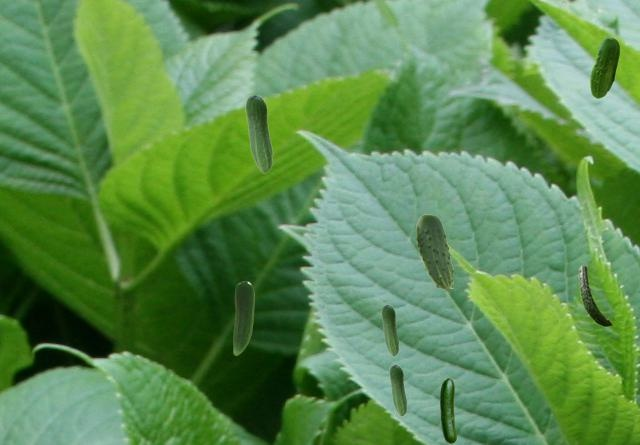cucumber: (416, 214, 452, 287), (245, 94, 272, 172), (578, 265, 611, 325), (590, 37, 618, 97), (233, 281, 253, 354), (440, 378, 455, 442), (381, 304, 398, 355), (389, 364, 406, 415)
